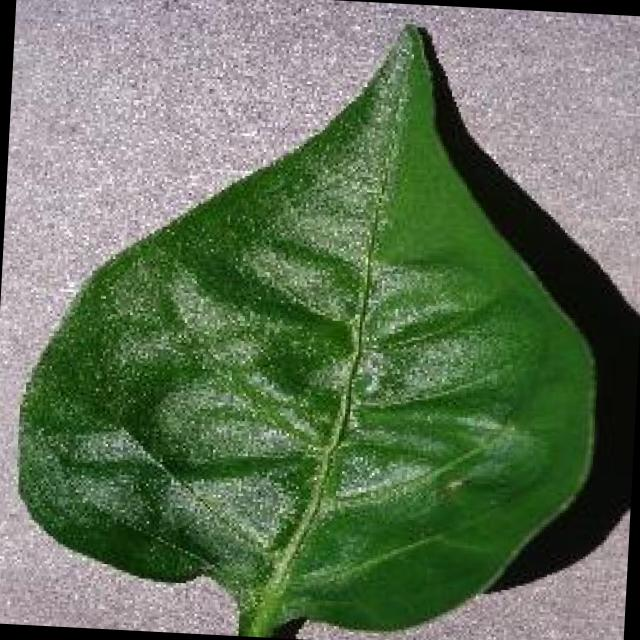Chilli_Healthy: (3, 2, 620, 640)
